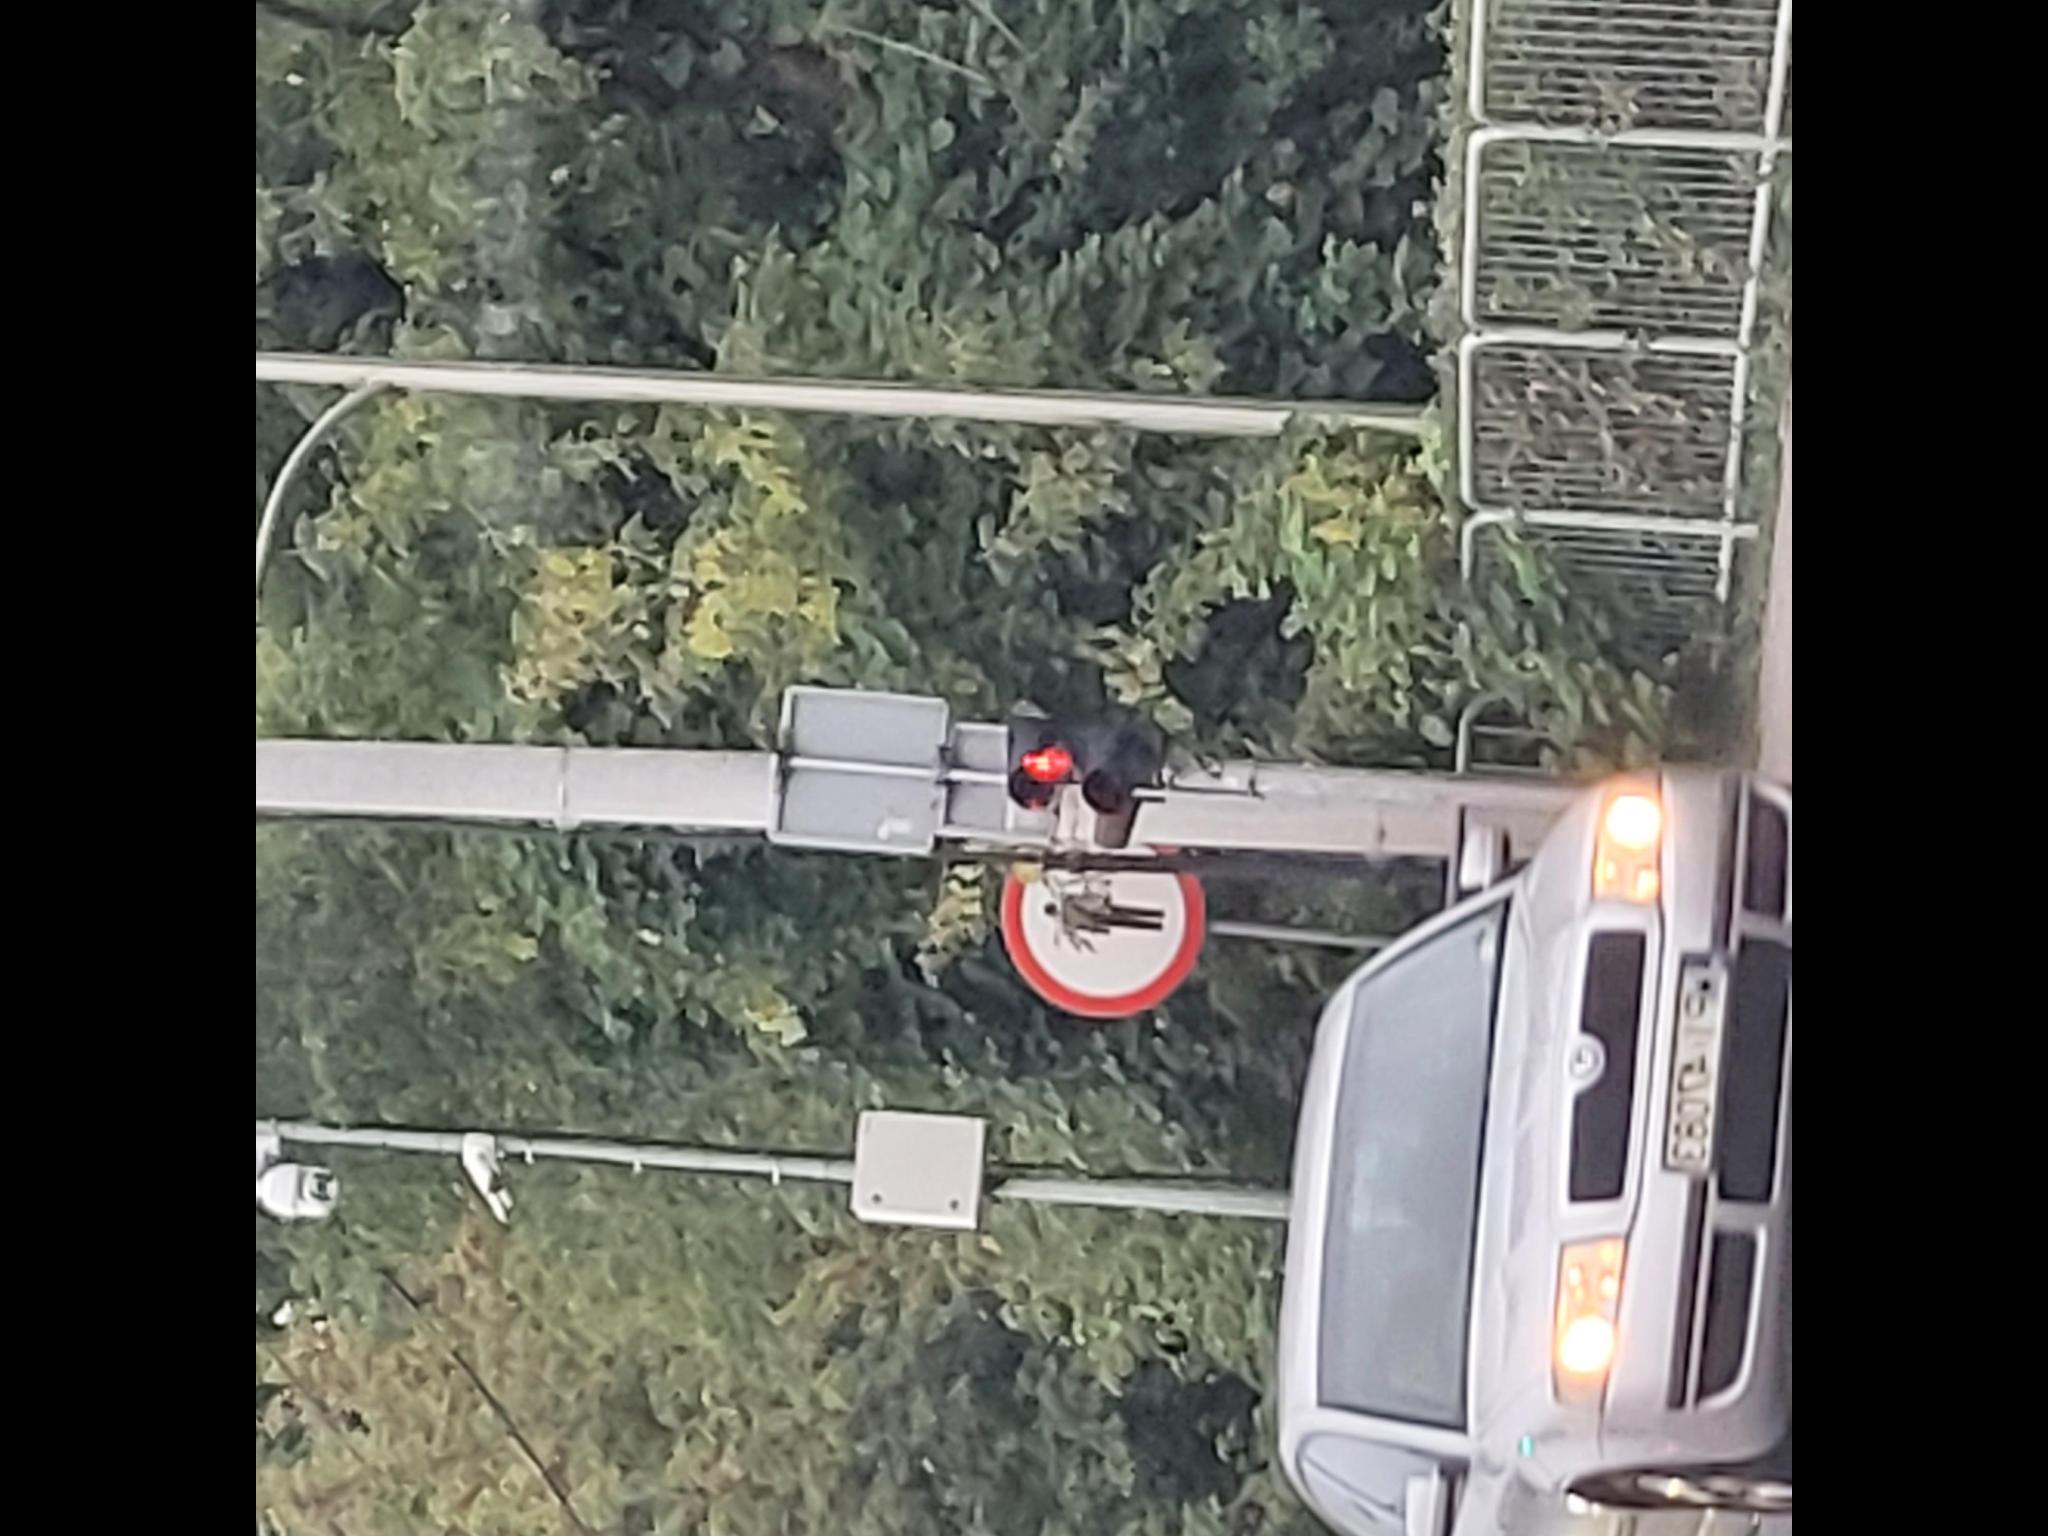prohibitory: (998, 821, 1211, 1029)
